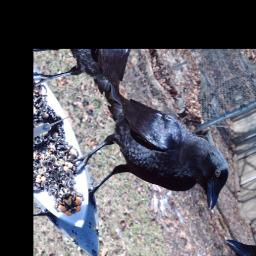Crow: (49, 66, 243, 255)
